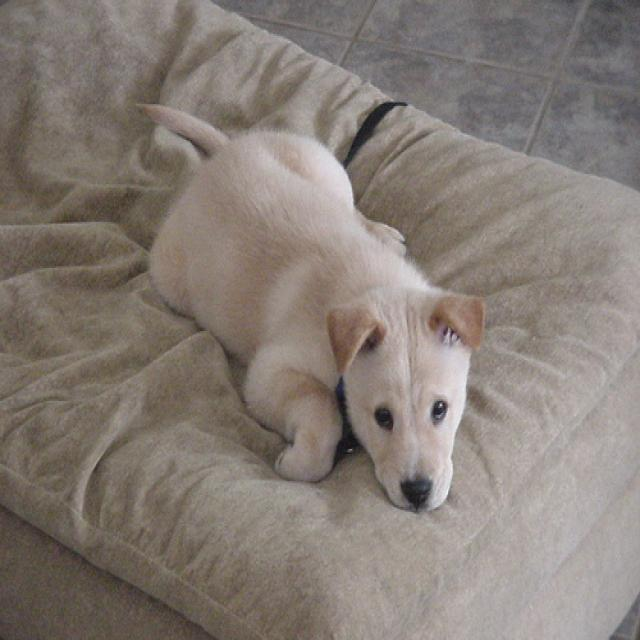dog: (135, 102, 485, 515)
